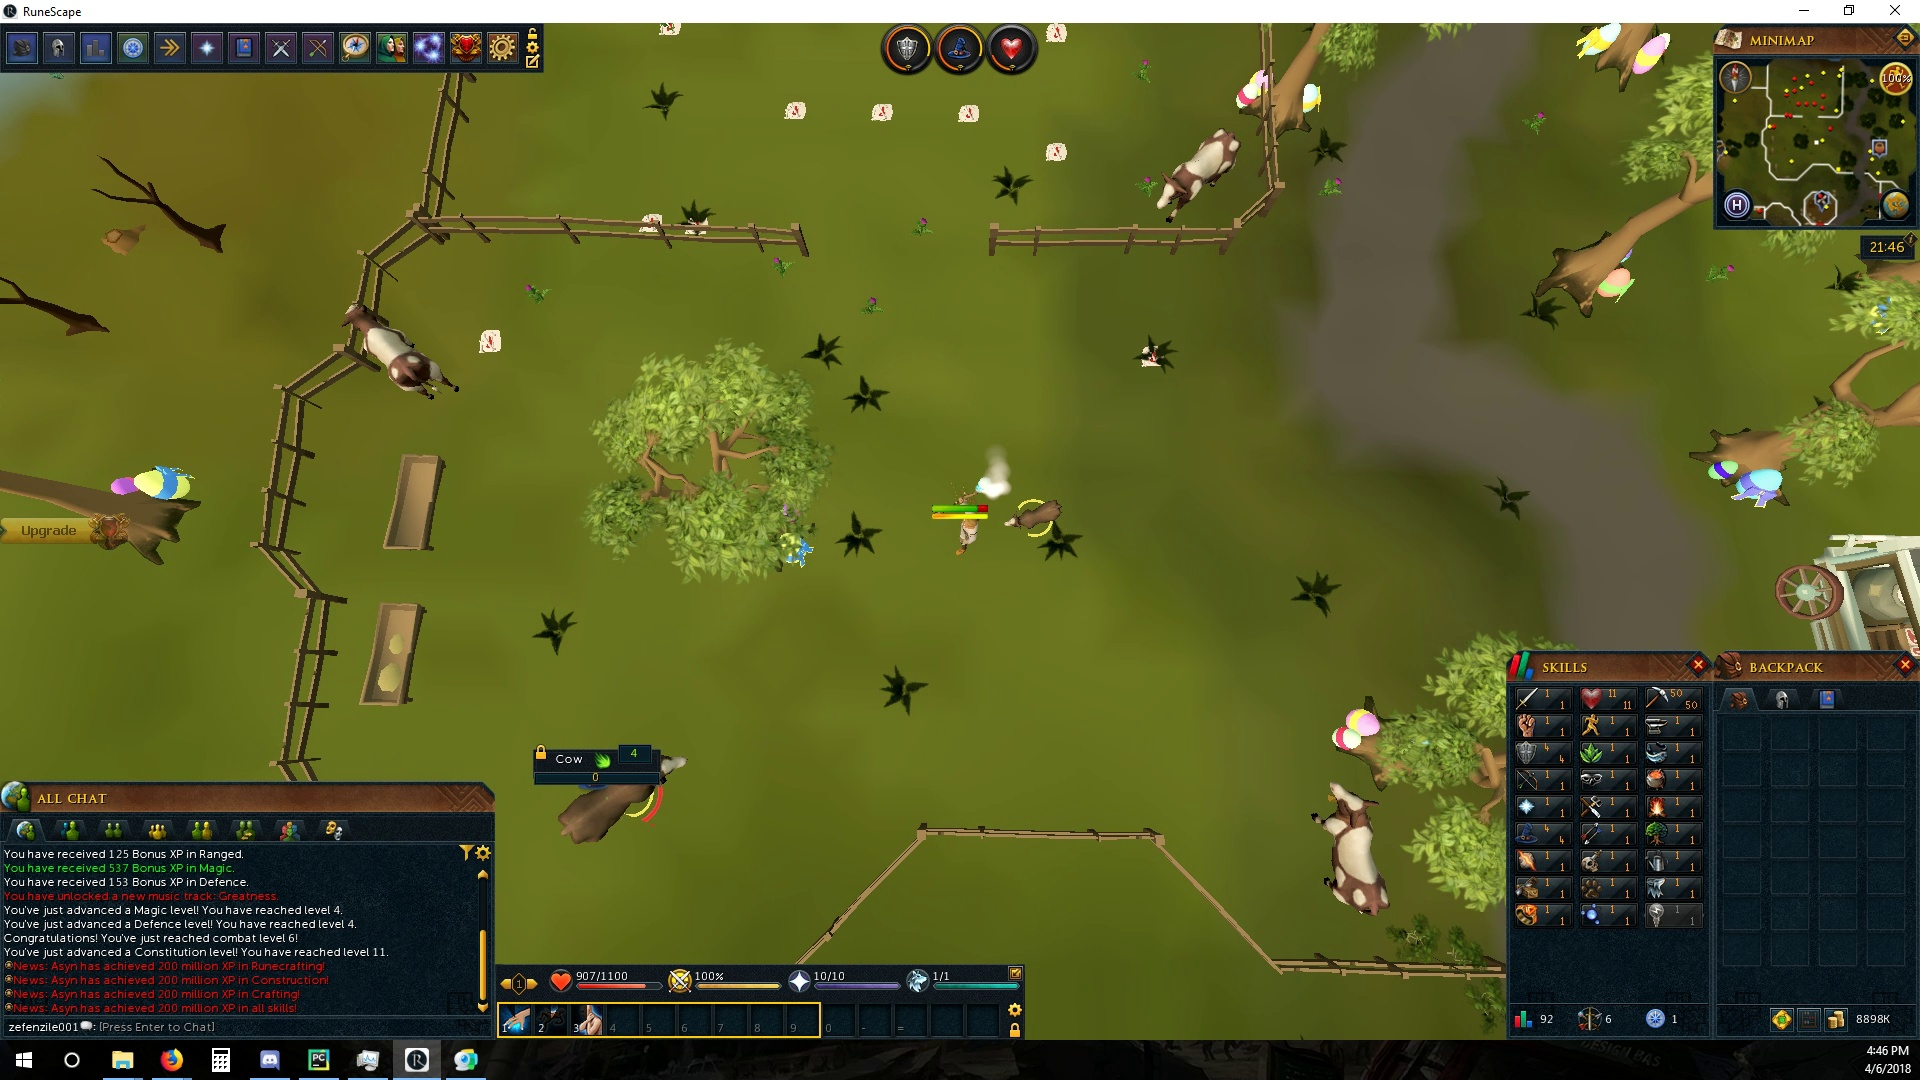calf: (1000, 497, 1065, 531)
cow: (339, 298, 463, 406), (553, 752, 690, 848), (1308, 779, 1395, 922), (1154, 128, 1244, 224)
cow_drop: (1138, 334, 1171, 371), (637, 211, 670, 237), (475, 327, 506, 353), (781, 98, 810, 123), (953, 98, 980, 123), (866, 103, 897, 124), (1040, 24, 1071, 45), (1044, 138, 1069, 164)
